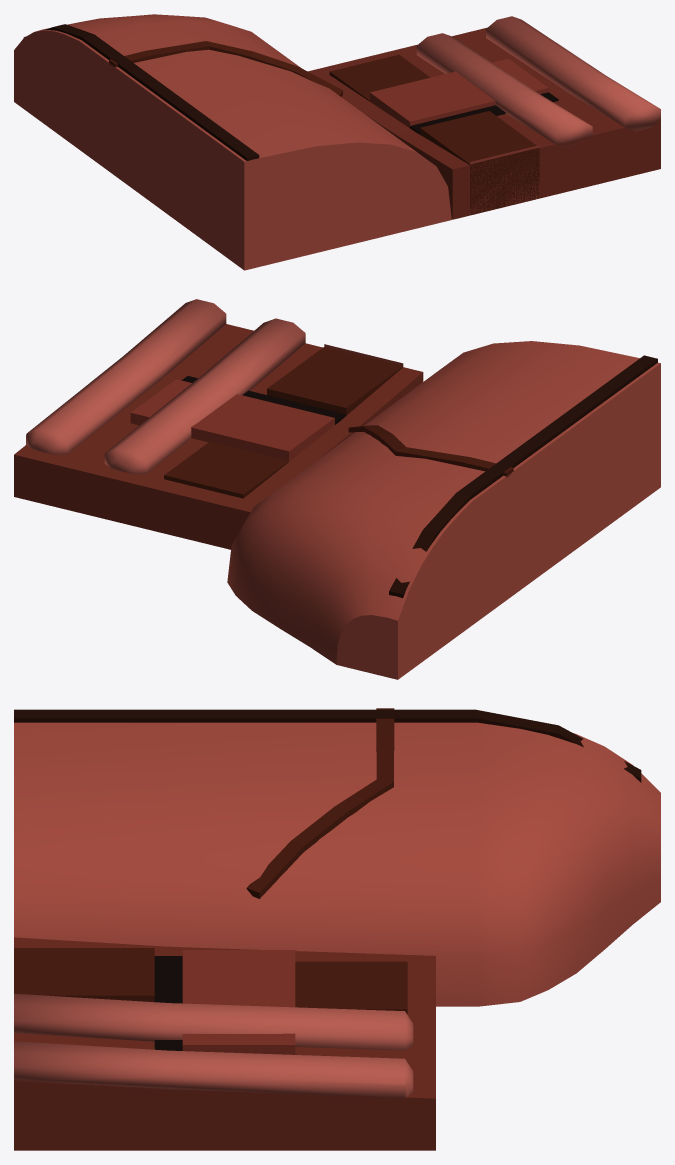
The model's file is newshf-159.glb.
3 views of the same model, one above another, from view 1: azimuth 30°, elevation 25°; view 2: azimuth 150°, elevation 25°; view 3: azimuth 270°, elevation 25° (orthographic). The views are drawn at different scales.
Parts seen in each view (by area): view 1: newshf-159; view 2: newshf-159; view 3: newshf-159.
Boxes of the visible parts, box(x1,y1,x2,y2) form: newshf-159: box(14, 14, 660, 270); newshf-159: box(14, 299, 660, 679); newshf-159: box(14, 708, 660, 1150).
Bounding box in the file's own units: 2 × 0.5139 × 1.92.
